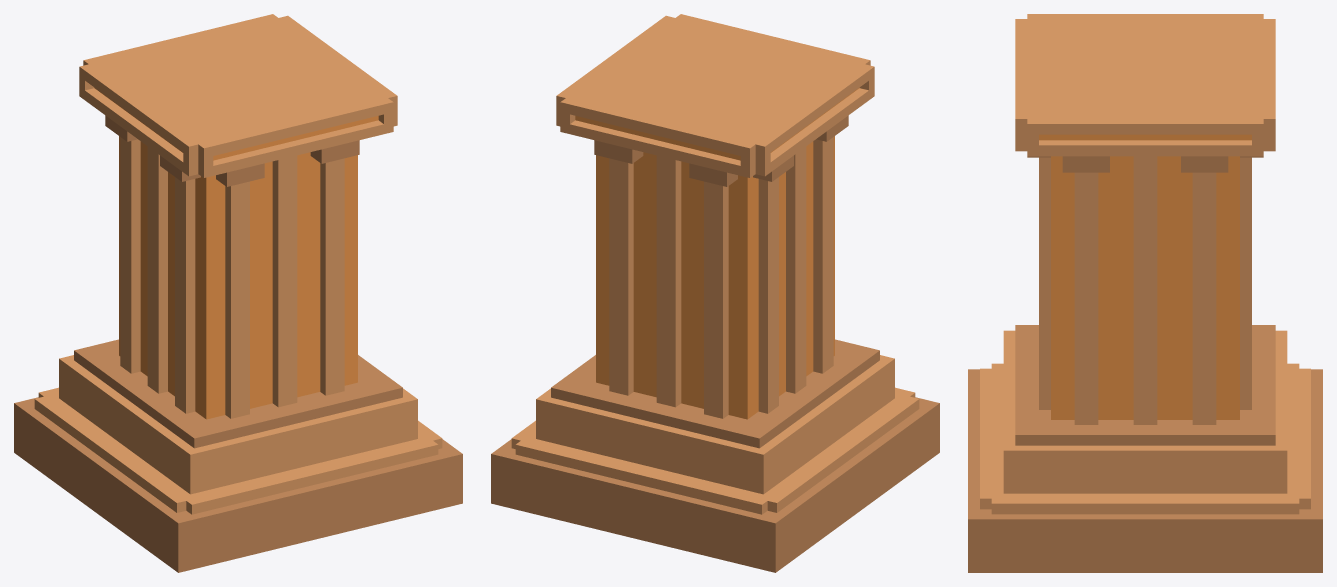
The model's file is pillar_base.glb.
The picture shows the model from 3 angles, left to right: view 1: azimuth 30°, elevation 25°; view 2: azimuth 150°, elevation 25°; view 3: azimuth 270°, elevation 25°; orthographic projection. The views are drawn at different scales.
Parts seen in each view (by area): view 1: Node; view 2: Node; view 3: Node.
Part boxes in pixels (left/top/right/bottom): Node: left=14, top=14, right=462, bottom=572; Node: left=491, top=14, right=939, bottom=572; Node: left=968, top=14, right=1322, bottom=572.
Bounding box in the file's own units: 3 × 4 × 3.
1 material, 1 textured.
